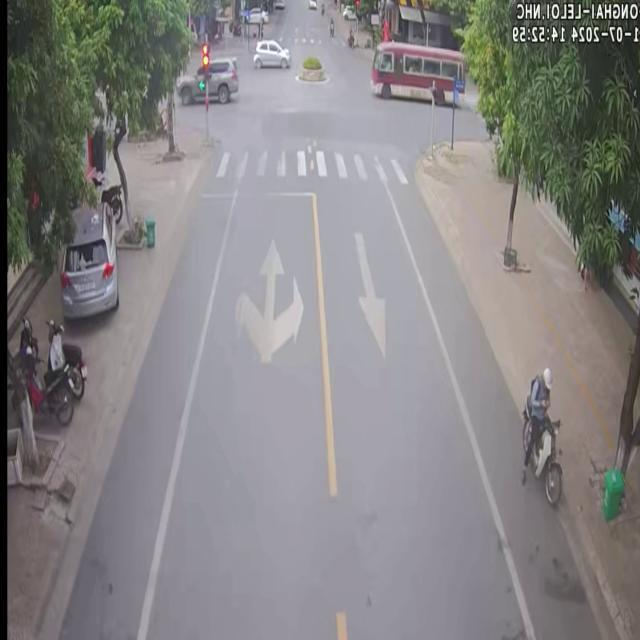car: (59, 200, 117, 316), (369, 40, 462, 102), (207, 56, 237, 102), (252, 38, 289, 67), (174, 65, 203, 102)
motobike: (519, 365, 560, 502), (18, 351, 72, 422), (43, 318, 84, 398)
red_light: (201, 44, 208, 78)
stop_line: (200, 189, 311, 195)
